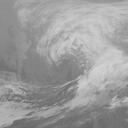cyclone: (30, 26, 106, 103)
